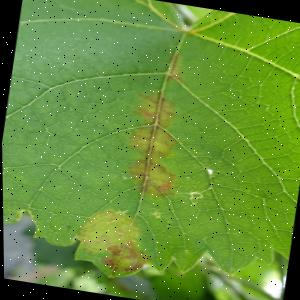Folha: (0, 0, 300, 300)
Fungo: (118, 87, 193, 200), (68, 202, 159, 284), (122, 156, 182, 199), (97, 236, 152, 280), (130, 87, 181, 129), (125, 122, 180, 158), (102, 207, 145, 241)
